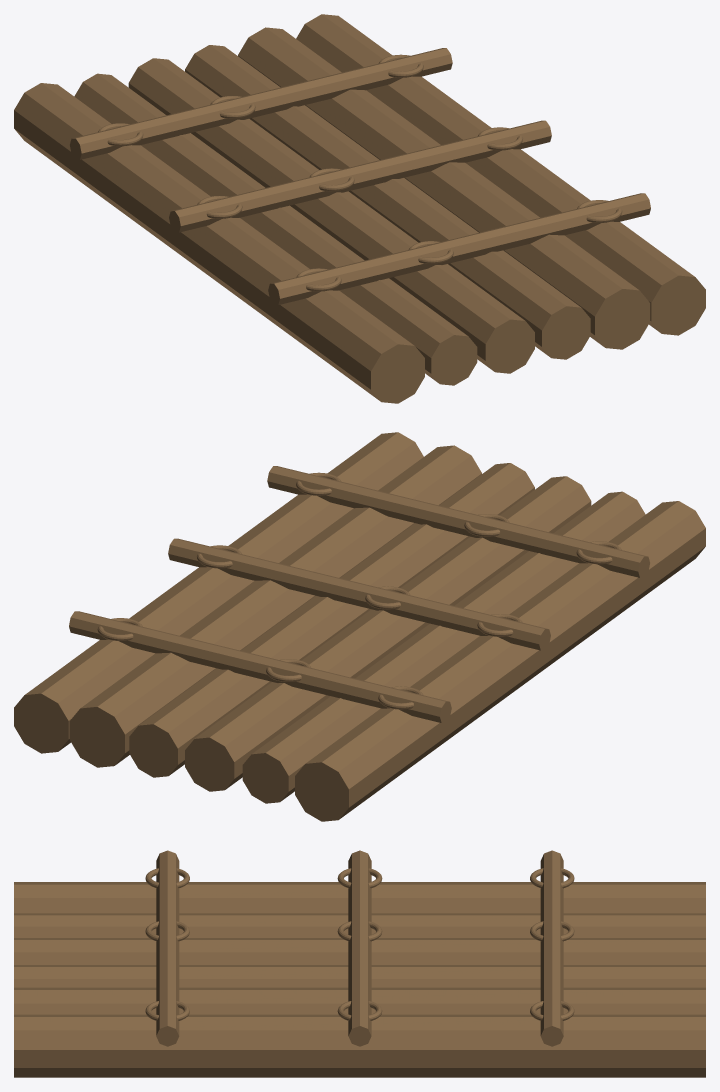
The model's file is raft.glb.
The picture shows the model from 3 angles, top to bottom: view 1: azimuth 30°, elevation 25°; view 2: azimuth 150°, elevation 25°; view 3: azimuth 270°, elevation 25°; orthographic projection. The views are drawn at different scales.
Parts seen in each view (by area): view 1: raft; view 2: raft; view 3: raft.
Boxes of the visible parts, x1=… form: raft: x1=14, y1=14, x2=705, y2=403; raft: x1=14, y1=432, x2=705, y2=821; raft: x1=14, y1=850, x2=705, y2=1077.
Bounding box in the file's own units: 1.08 × 0.2047 × 1.8.
